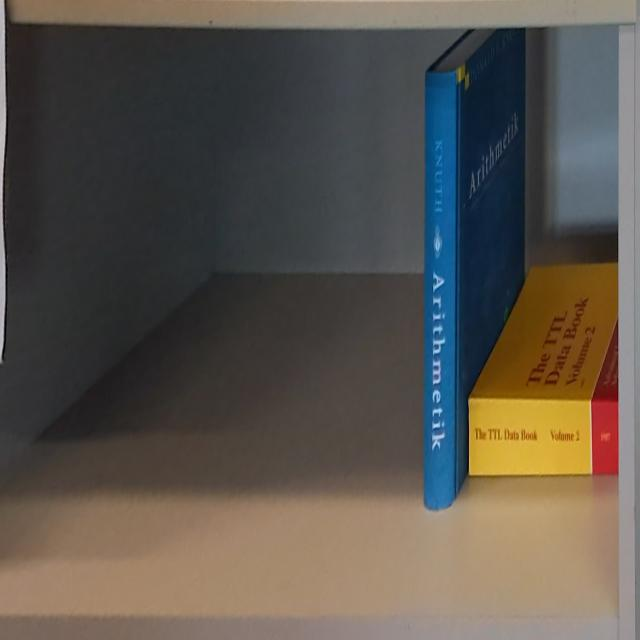Book Spine: (424, 68, 456, 512), (468, 399, 618, 476)
